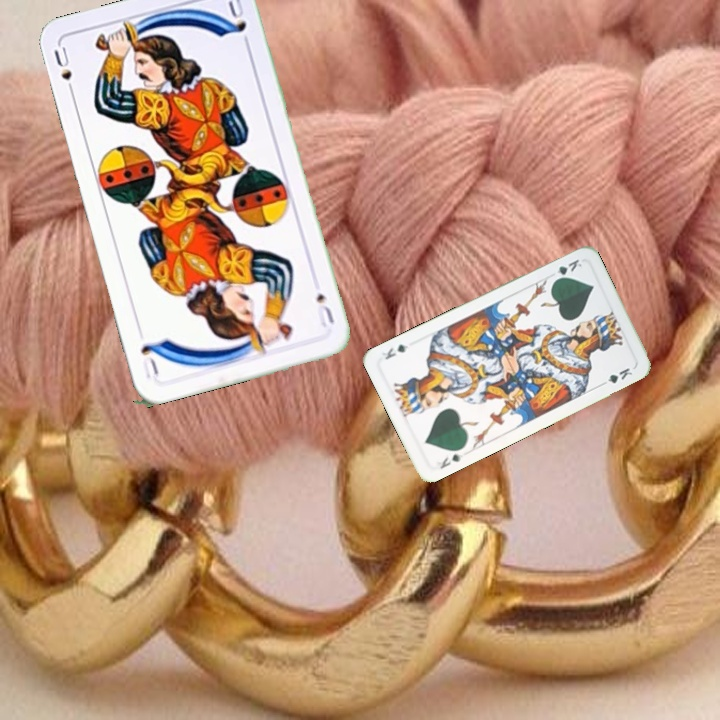GK: (549, 255, 584, 284), (436, 449, 466, 471)
SU: (50, 42, 78, 100), (312, 288, 337, 330)
